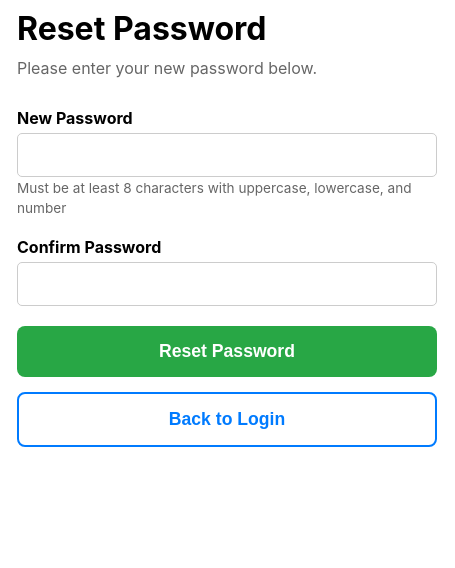
Test: ResetPasswordPage › should validate password strength
Note: Enter weak password
In the password field labelled "New Password": (227, 155) [17, 133, 437, 177], type "weak"
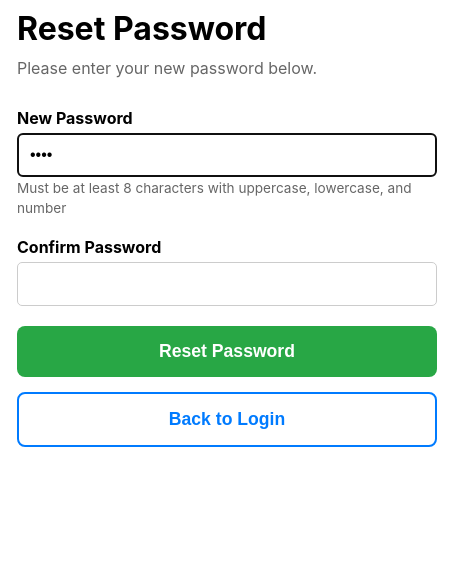
In the password field labelled "Confirm Password": (227, 284) [17, 262, 437, 306], type "weak"
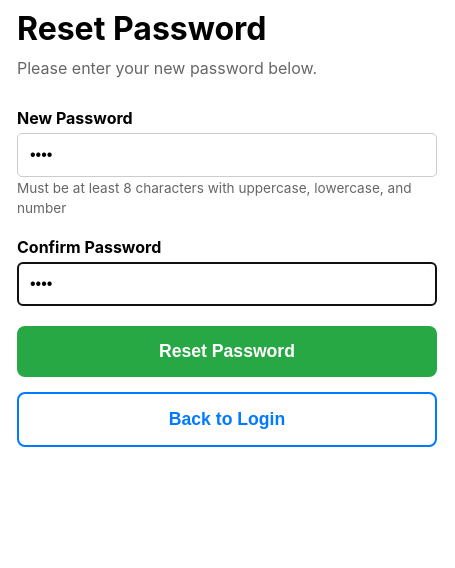
Click the button "Reset Password": (227, 352) [17, 326, 437, 377]
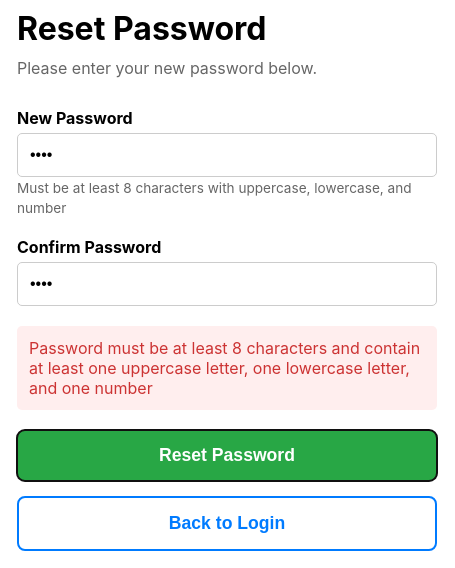
Expected: the text "Password must be at least 8 characters" is shown, [29, 338, 420, 398]
